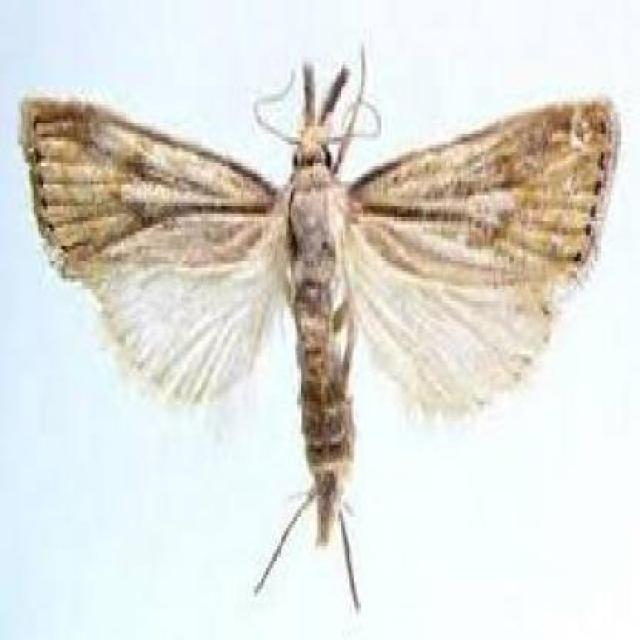stem-borer: (17, 38, 620, 610)
